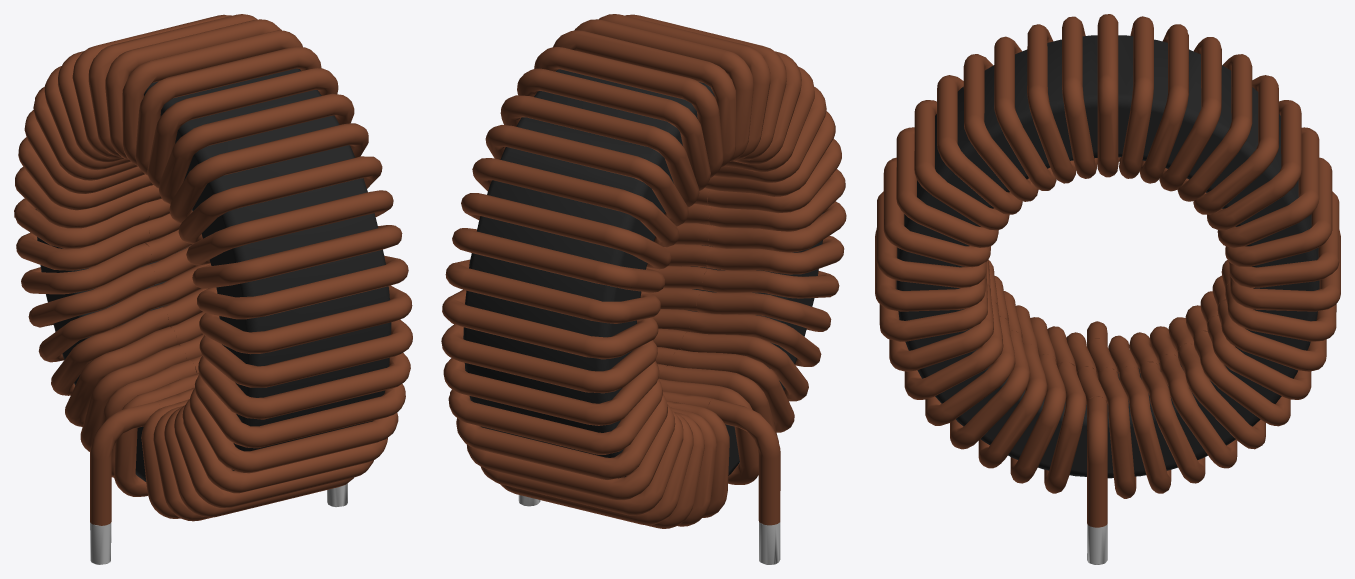
File: inductor.glb
3 renders of one model, left to right at view 1: azimuth 30°, elevation 25°; view 2: azimuth 150°, elevation 25°; view 3: azimuth 270°, elevation 25°, orthographic. The views are drawn at different scales.
Visible parts, largest first — view 1: Toroidal inductor_wireDia2mm_44.6x27x44.6mm; view 2: Toroidal inductor_wireDia2mm_44.6x27x44.6mm; view 3: Toroidal inductor_wireDia2mm_44.6x27x44.6mm.
Boxes of the visible parts, x1,y1,x2,y2 form: Toroidal inductor_wireDia2mm_44.6x27x44.6mm: (14,14,412,564); Toroidal inductor_wireDia2mm_44.6x27x44.6mm: (441,14,846,564); Toroidal inductor_wireDia2mm_44.6x27x44.6mm: (875,14,1340,564).
Size of the model in its own units: 0.027 by 0.0486 by 0.0446.
